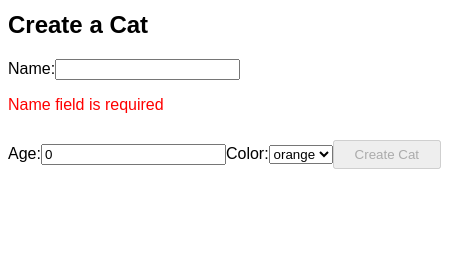
(14 points) CatForm › (1 point) should show an "Age must be between 0 and 30" error if age is less than 0
Clear the number field labelled "Age:" at (133, 154), box [41,144,226,165]
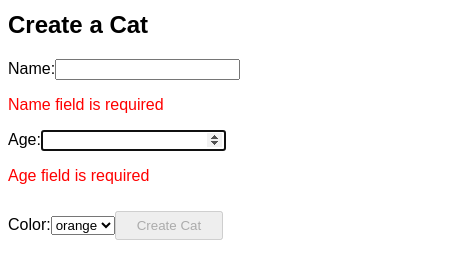
Type "-1" into the number field labelled "Age: Age field is required" at (133, 140), box [41,130,226,151]
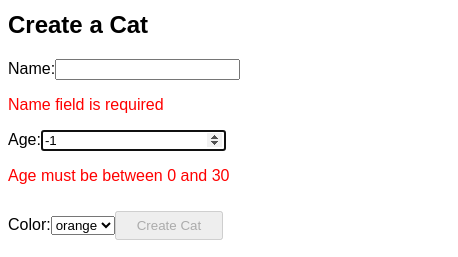
Expected: the text "Age must be between 0 and 30" is shown, [8,167,230,184]
